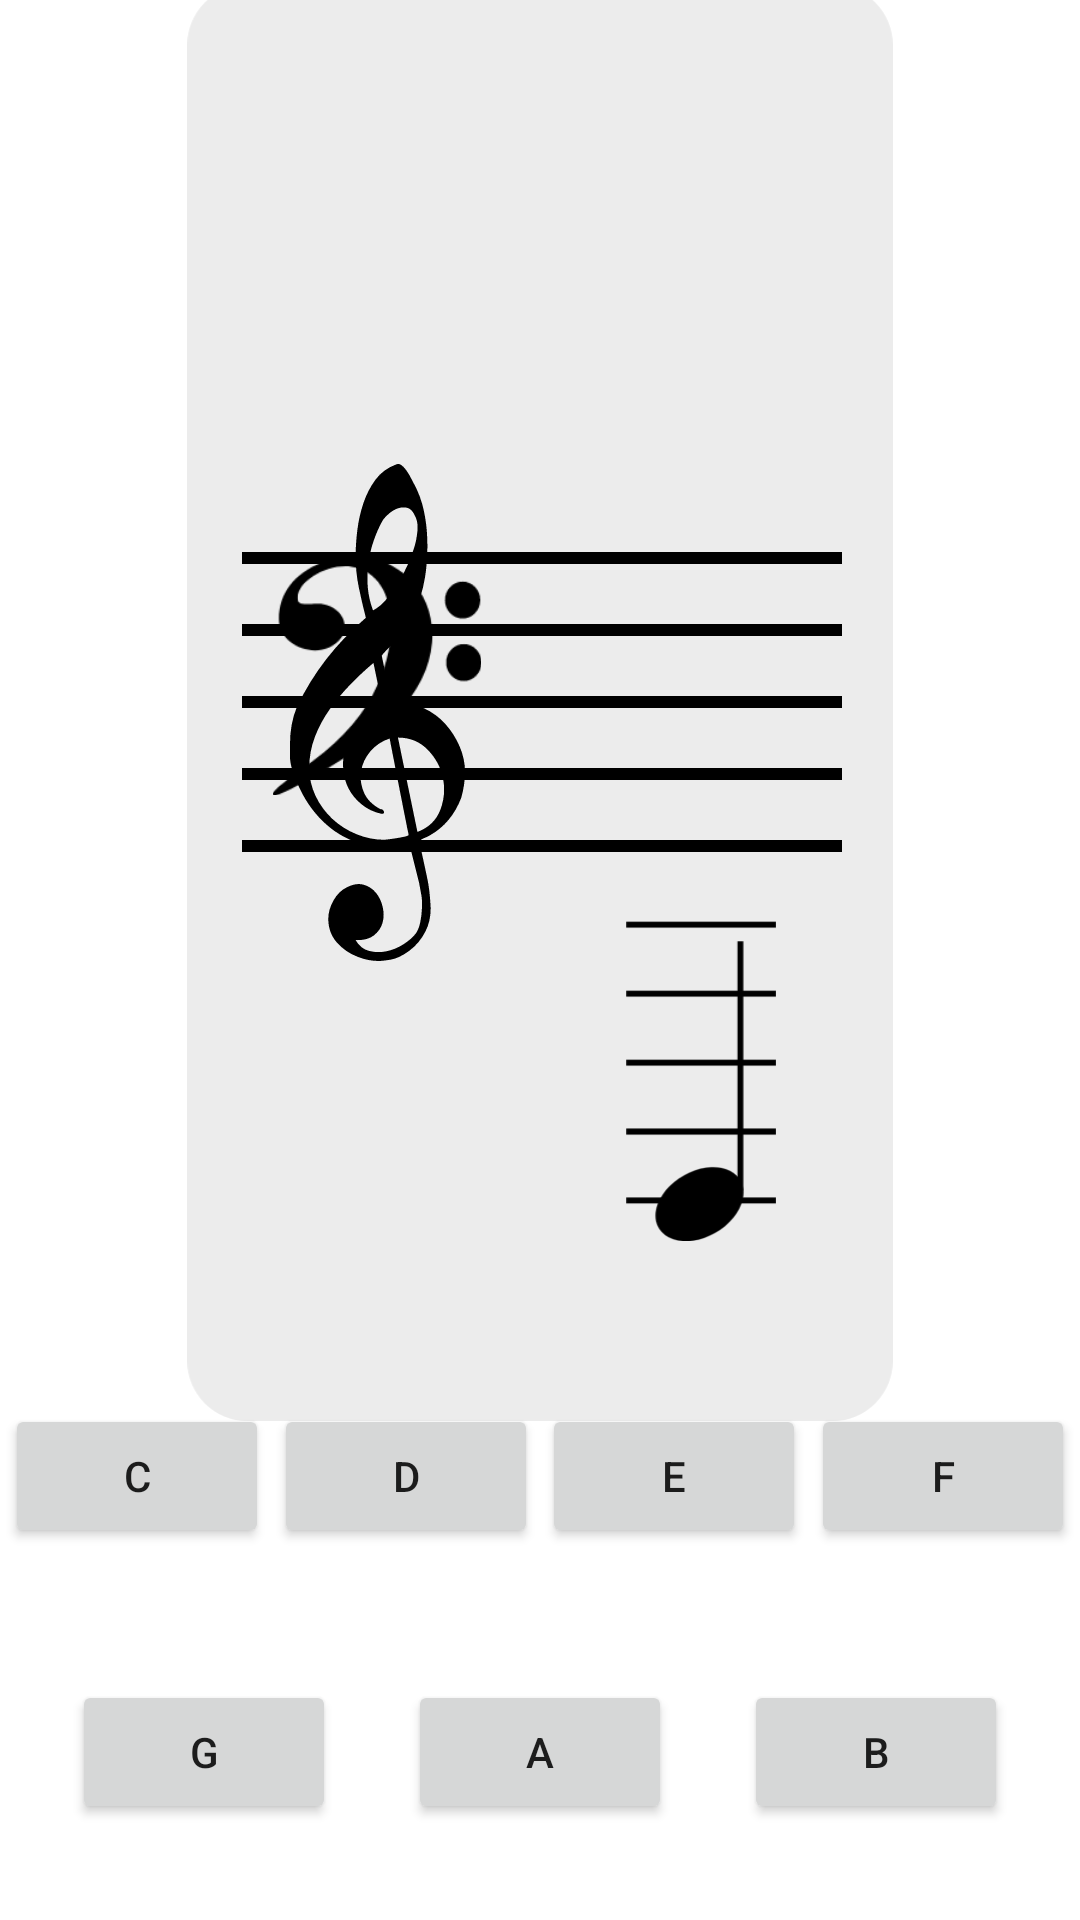

Screen size 1080px×1920px. Icon name, then its box in pixels as (x1, y1, x2, y2):
note: (626, 921, 776, 1241)
